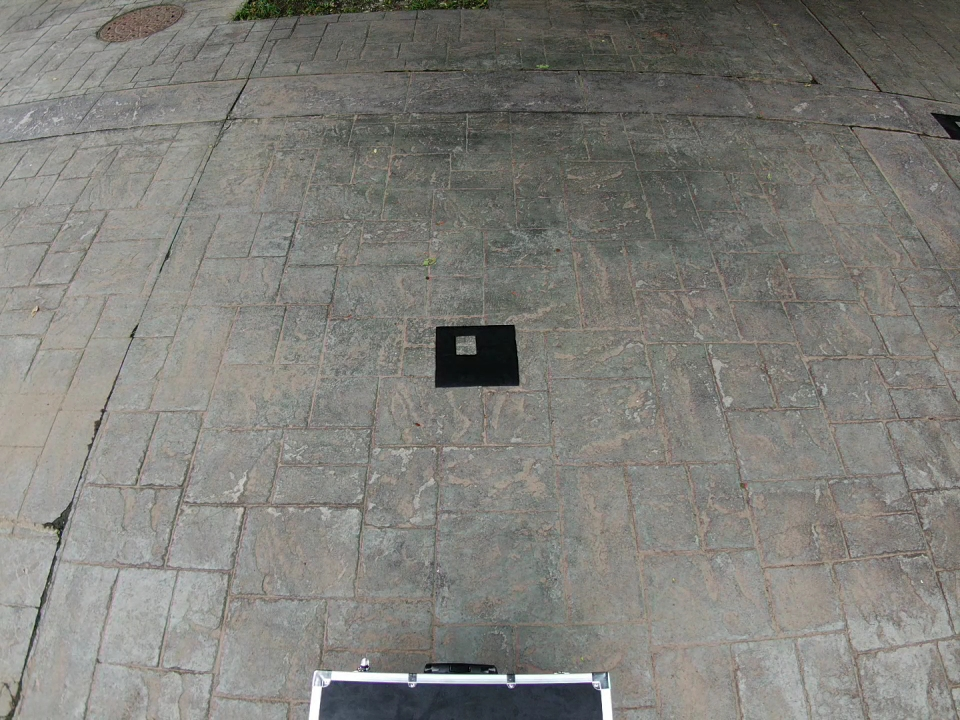qrcode: (435, 325, 520, 387)
